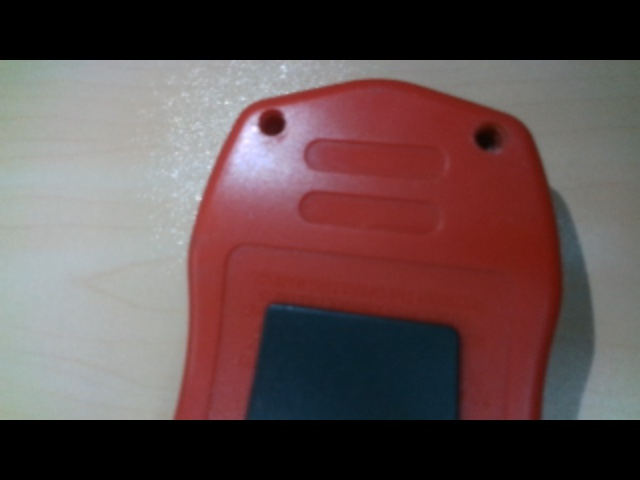Screw holes: (472, 122, 508, 154), (257, 107, 286, 136)
